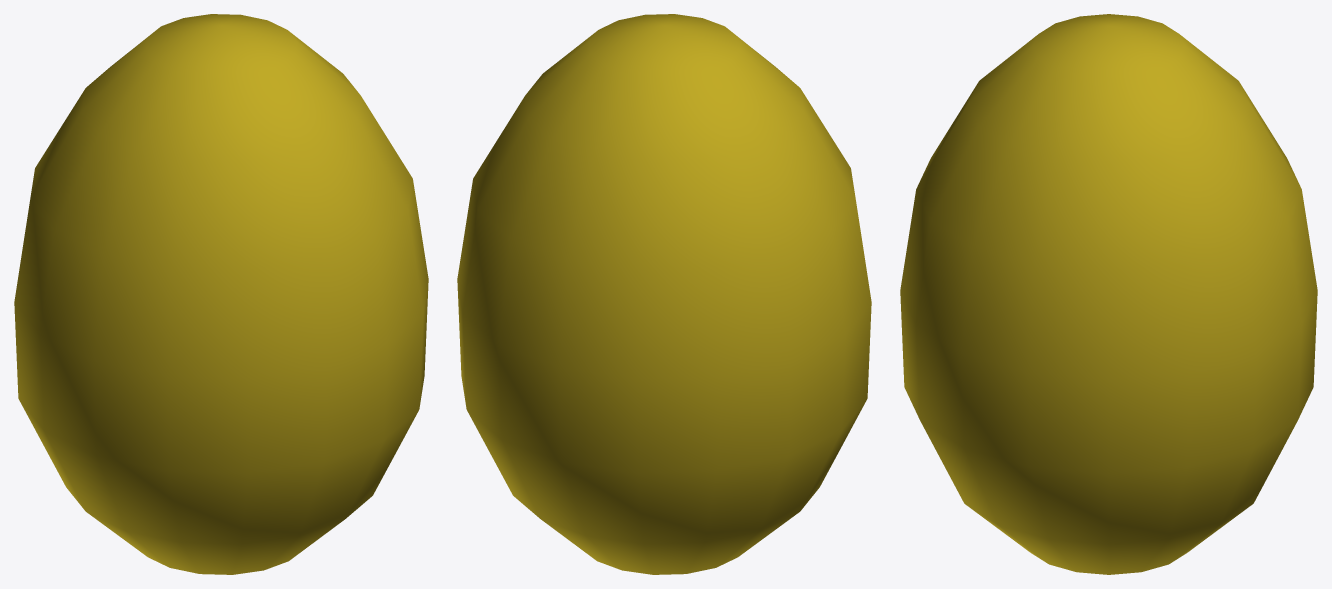
Rendered from egg_basic_easter.glb.
3 views of the same model, side by side, from view 1: azimuth 30°, elevation 25°; view 2: azimuth 150°, elevation 25°; view 3: azimuth 270°, elevation 25° (orthographic).
Visible parts, largest first — view 1: 0.063; view 2: 0.063; view 3: 0.063.
Part boxes in pixels (x1,y1,x2,y2): 0.063: (14, 14, 428, 574); 0.063: (457, 14, 871, 574); 0.063: (900, 14, 1317, 574).
Bounding box in the file's own units: 0.3574 × 0.5049 × 0.3574.
